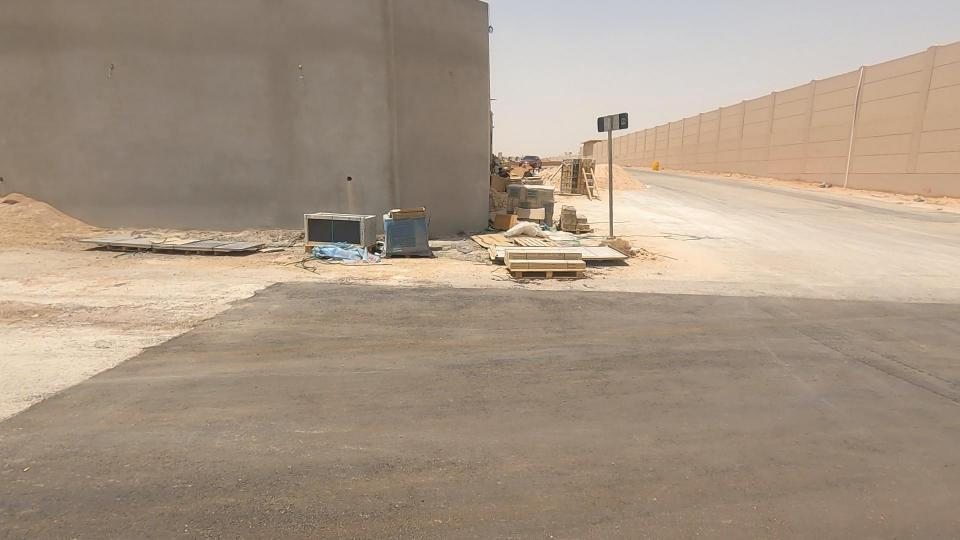GARBAGE: (48, 190, 336, 305), (274, 221, 394, 292), (466, 202, 600, 258)
SAND_ON_ROAD: (562, 134, 666, 220)
